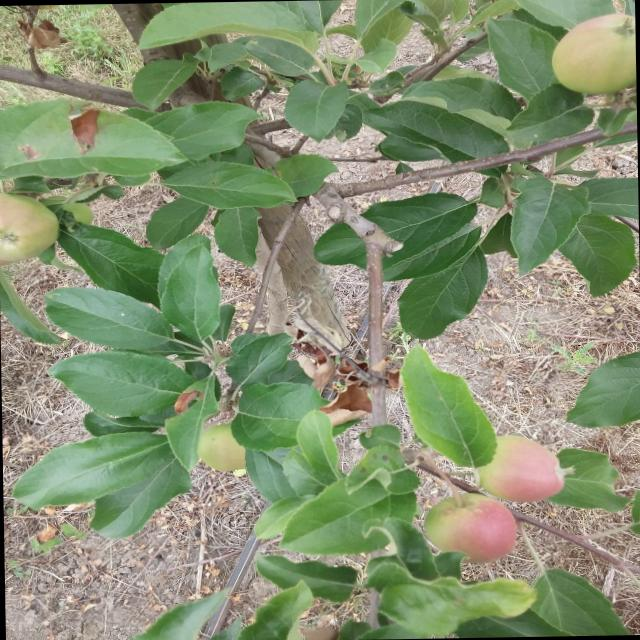-FireBlight-: (278, 300, 410, 430)
